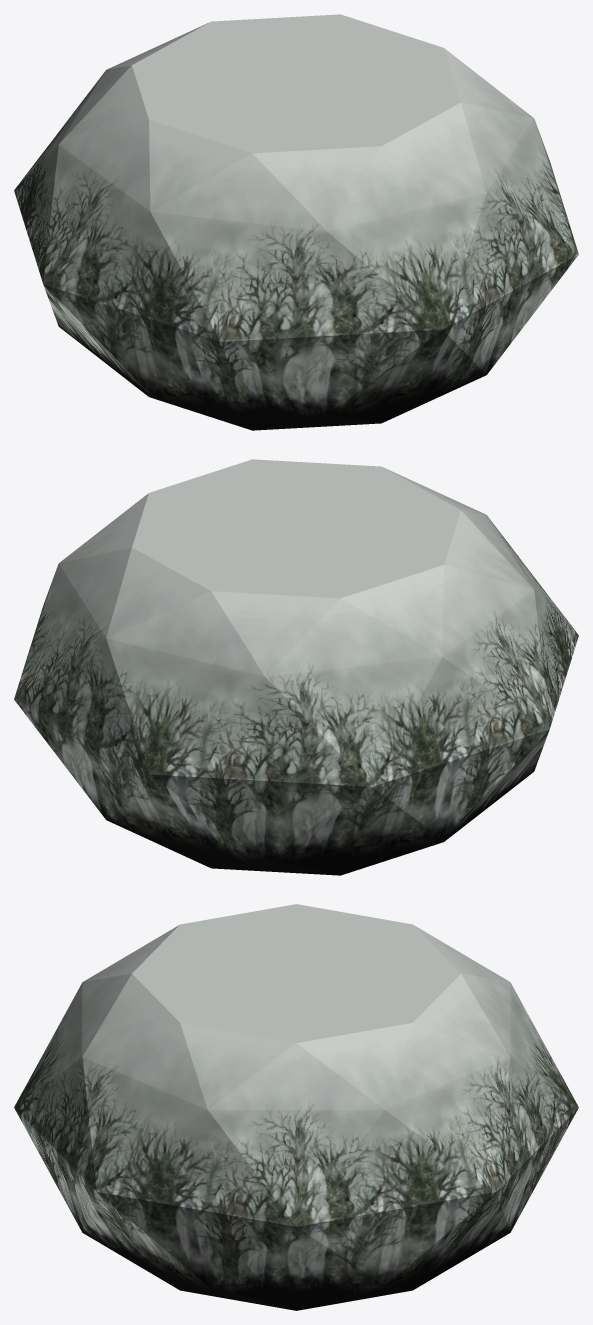
3 renders of one model, top to bottom at view 1: azimuth 30°, elevation 25°; view 2: azimuth 150°, elevation 25°; view 3: azimuth 270°, elevation 25°, orthographic. The views are drawn at different scales.
Visible parts, largest first — view 1: vr09; view 2: vr09; view 3: vr09.
Boxes of the visible parts, x1,y1,x2,y2 form: vr09: (14, 14, 578, 430); vr09: (14, 459, 578, 875); vr09: (14, 904, 578, 1310).
Bounding box in the file's own units: 117964 × 61688 × 117964.
1 material, 1 textured.
